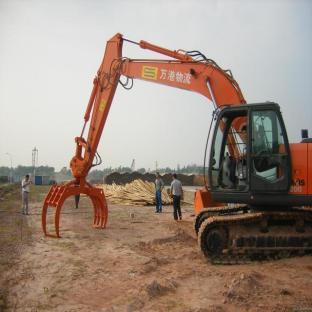ExcavationMachinery: (67, 37, 311, 267)
